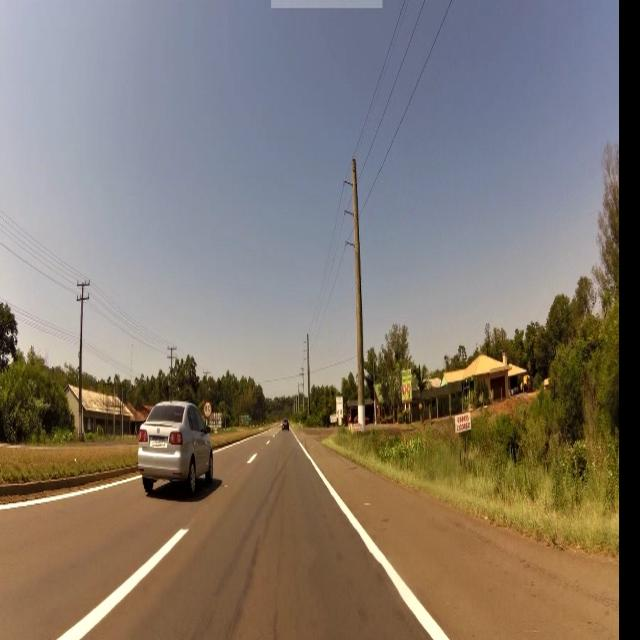R-19: (204, 398, 212, 418)
